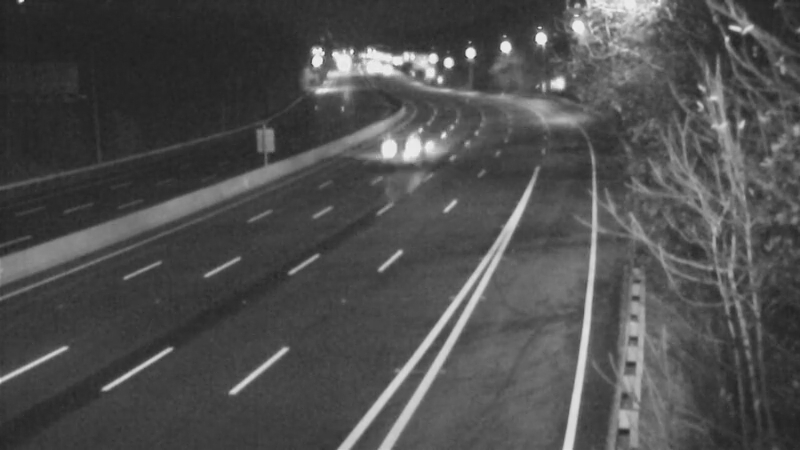vehicle: (377, 117, 427, 167)
